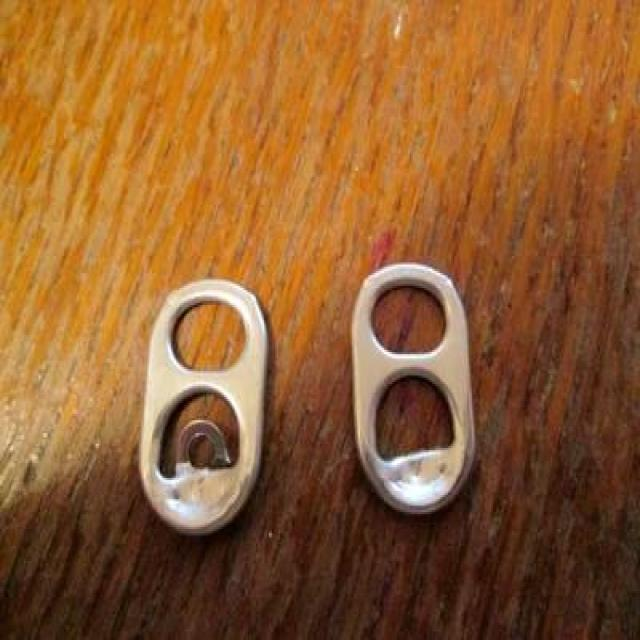pop tab: (139, 279, 270, 540), (350, 263, 479, 522)
